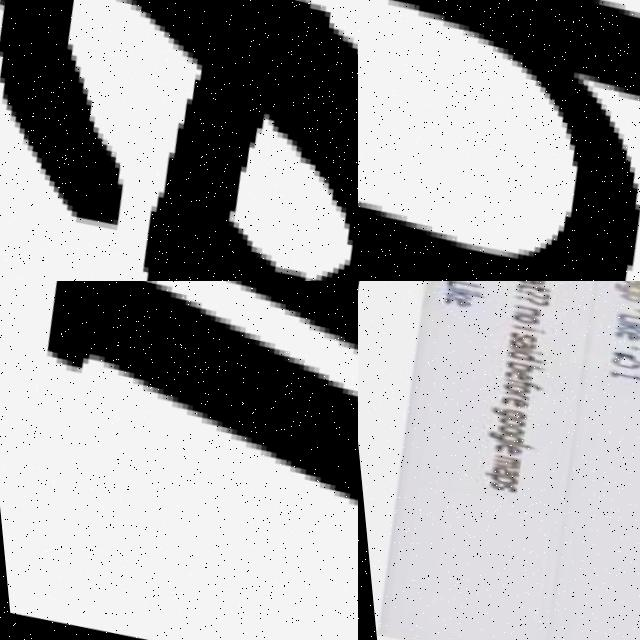1: (600, 368, 640, 385)
D: (0, 281, 358, 609)
E: (112, 0, 358, 281)
N: (358, 0, 640, 281)
